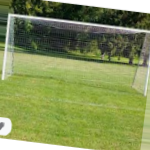goals: (1, 10, 150, 97)
